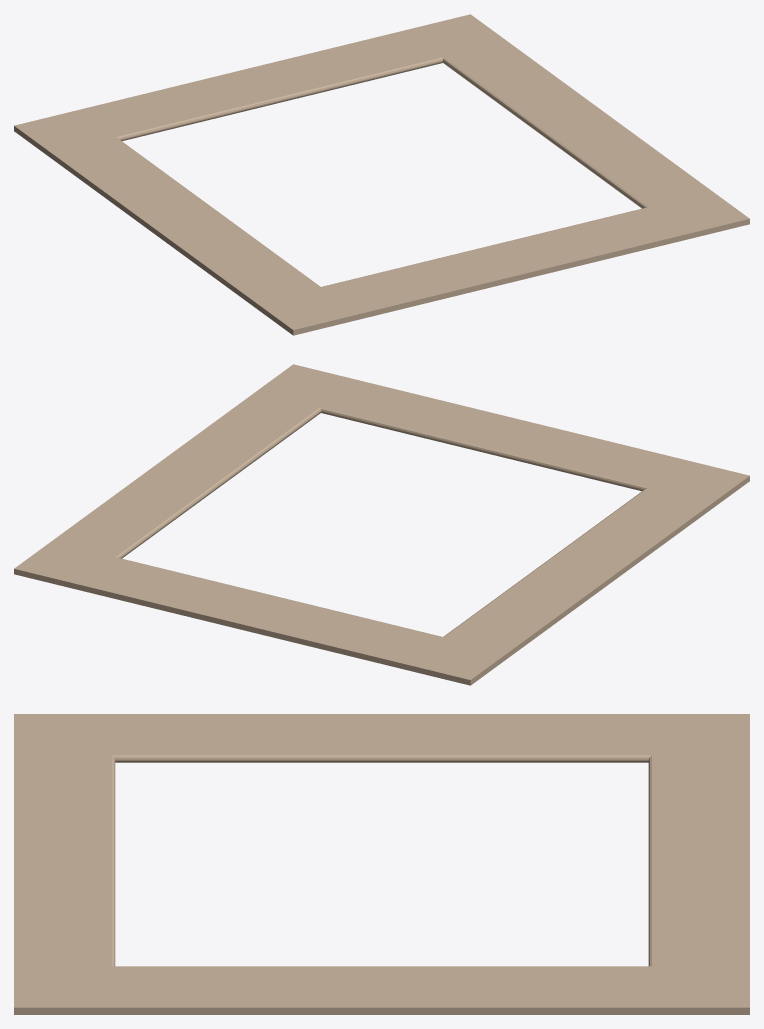
Rendered from Kitchen Lighting.fbx.
3 views of the same model, one above another, from view 1: azimuth 30°, elevation 25°; view 2: azimuth 150°, elevation 25°; view 3: azimuth 270°, elevation 25° (orthographic). The views are drawn at different scales.
Parts seen in each view (by area): view 1: Cube.109; view 2: Cube.109; view 3: Cube.109.
Boxes of the visible parts, x1,y1,x2,y2 form: Cube.109: [14, 14, 749, 335]; Cube.109: [14, 364, 749, 685]; Cube.109: [14, 714, 749, 1014].
Size of the model in its own units: 13818 by 160 by 14644.
